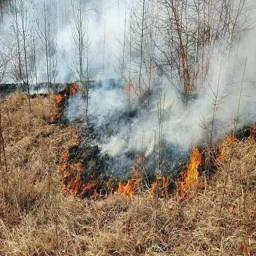Low smoke: (0, 1, 256, 143)
Small fire: (59, 147, 226, 200), (53, 85, 80, 106), (222, 132, 241, 149)
